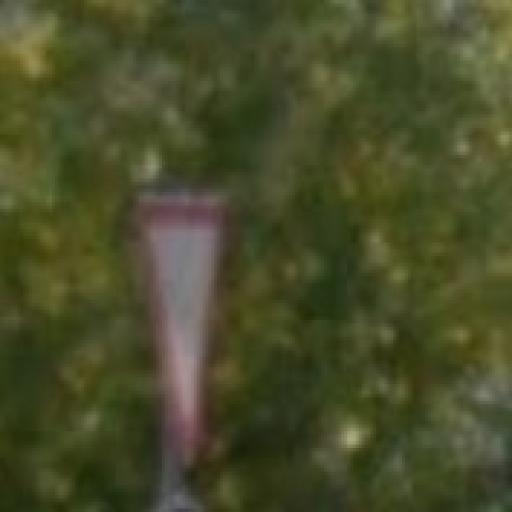traffic_sign: (134, 197, 230, 470)
